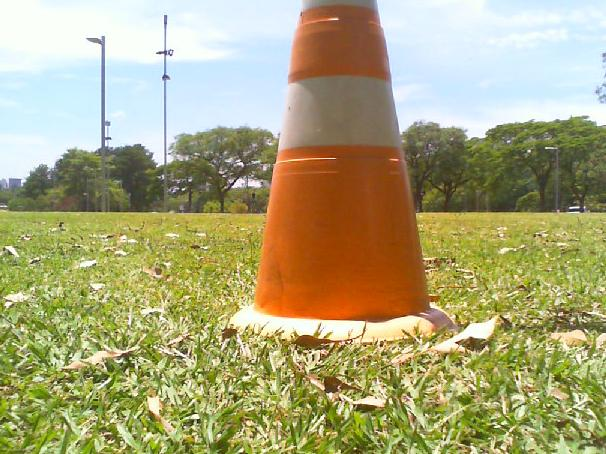0 cone: (227, 0, 455, 343)
